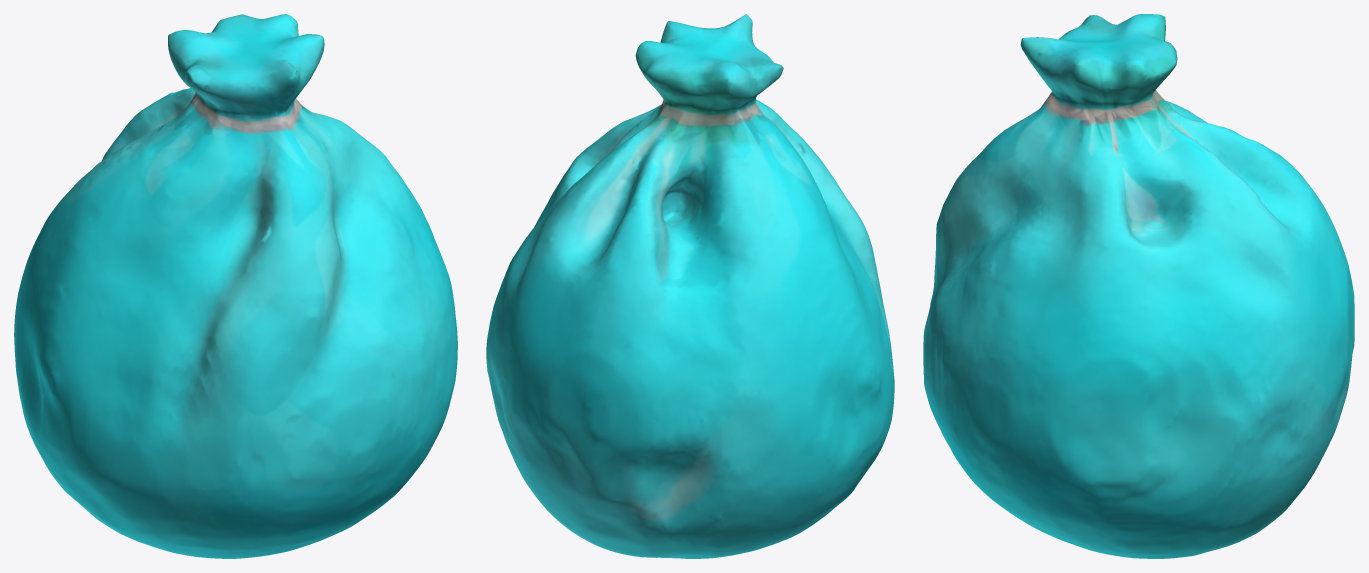
3 renders of one model, left to right at view 1: azimuth 30°, elevation 25°; view 2: azimuth 150°, elevation 25°; view 3: azimuth 270°, elevation 25°, orthographic. The views are drawn at different scales.
Bounding box in the file's own units: 0.9104 × 1.2 × 0.9437.
Materials: 1 (1 with a texture image).
